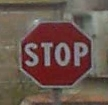stop: (17, 17, 94, 87)
